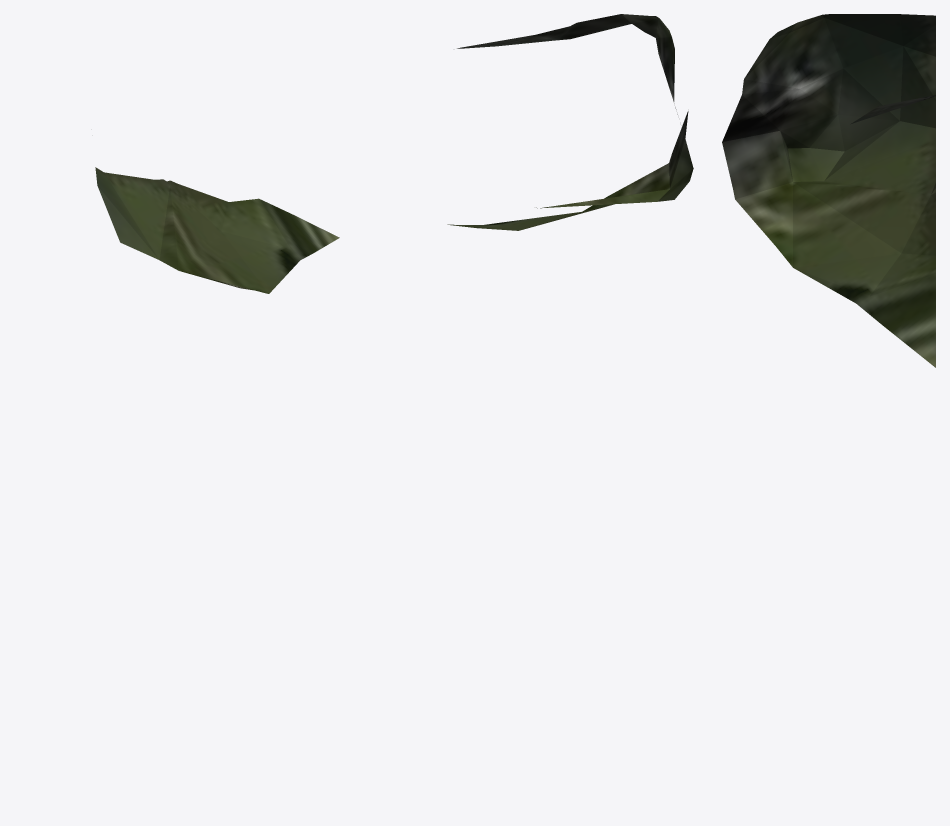
3 views of the same model, side by side, from view 1: azimuth 30°, elevation 25°; view 2: azimuth 150°, elevation 25°; view 3: azimuth 270°, elevation 25° (orthographic). The views are drawn at different scales.
Bounding box in the file's own units: 1.11 × 2.48 × 0.6578.
Materials: 1 (1 with a texture image).
